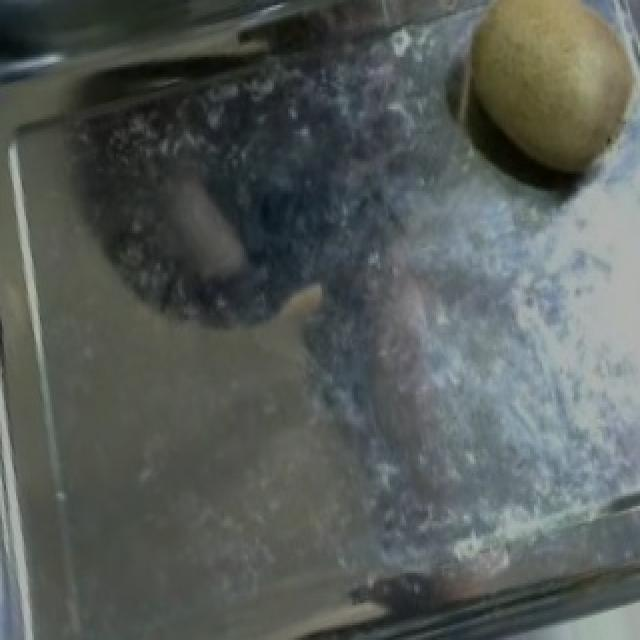Fruit: (440, 0, 640, 198), (114, 144, 270, 335)
